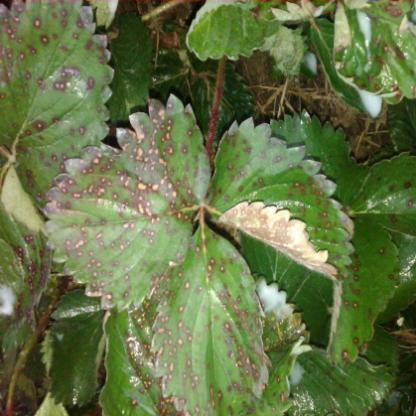Strawberry_Leaf_Spot: (41, 92, 213, 314), (204, 116, 356, 284), (0, 0, 117, 211), (148, 218, 272, 415), (324, 218, 402, 368), (96, 297, 182, 415), (331, 0, 415, 120), (244, 276, 312, 416), (286, 344, 396, 414), (344, 150, 416, 238)
